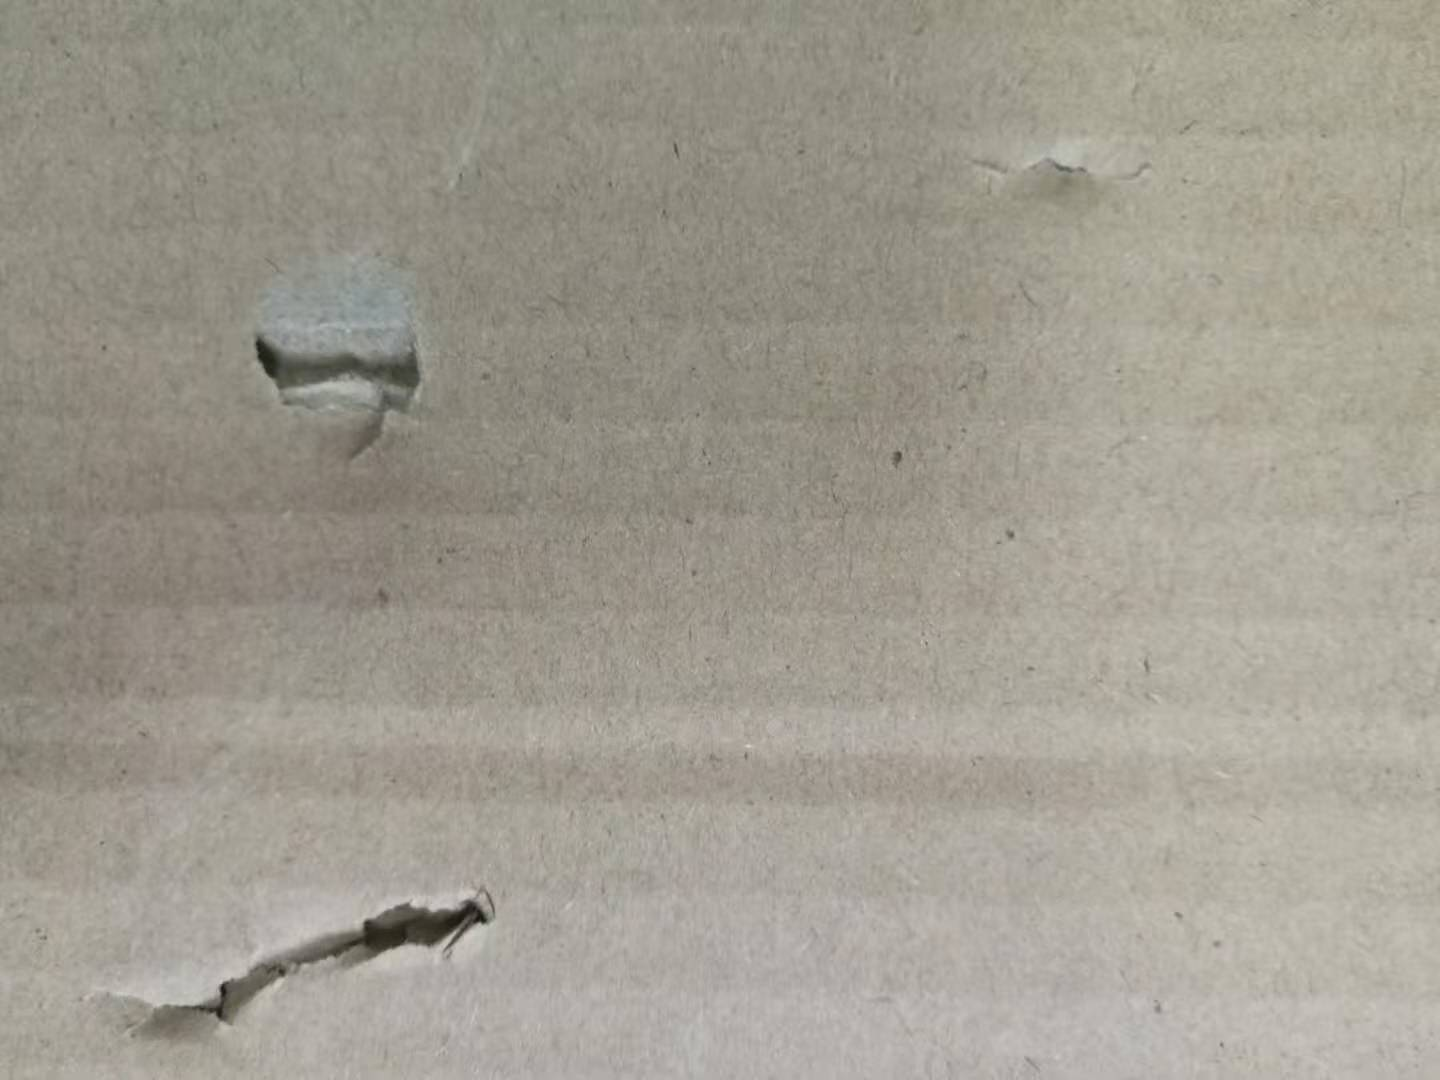defect: (67, 862, 531, 1061), (212, 221, 465, 493), (937, 115, 1208, 236)
